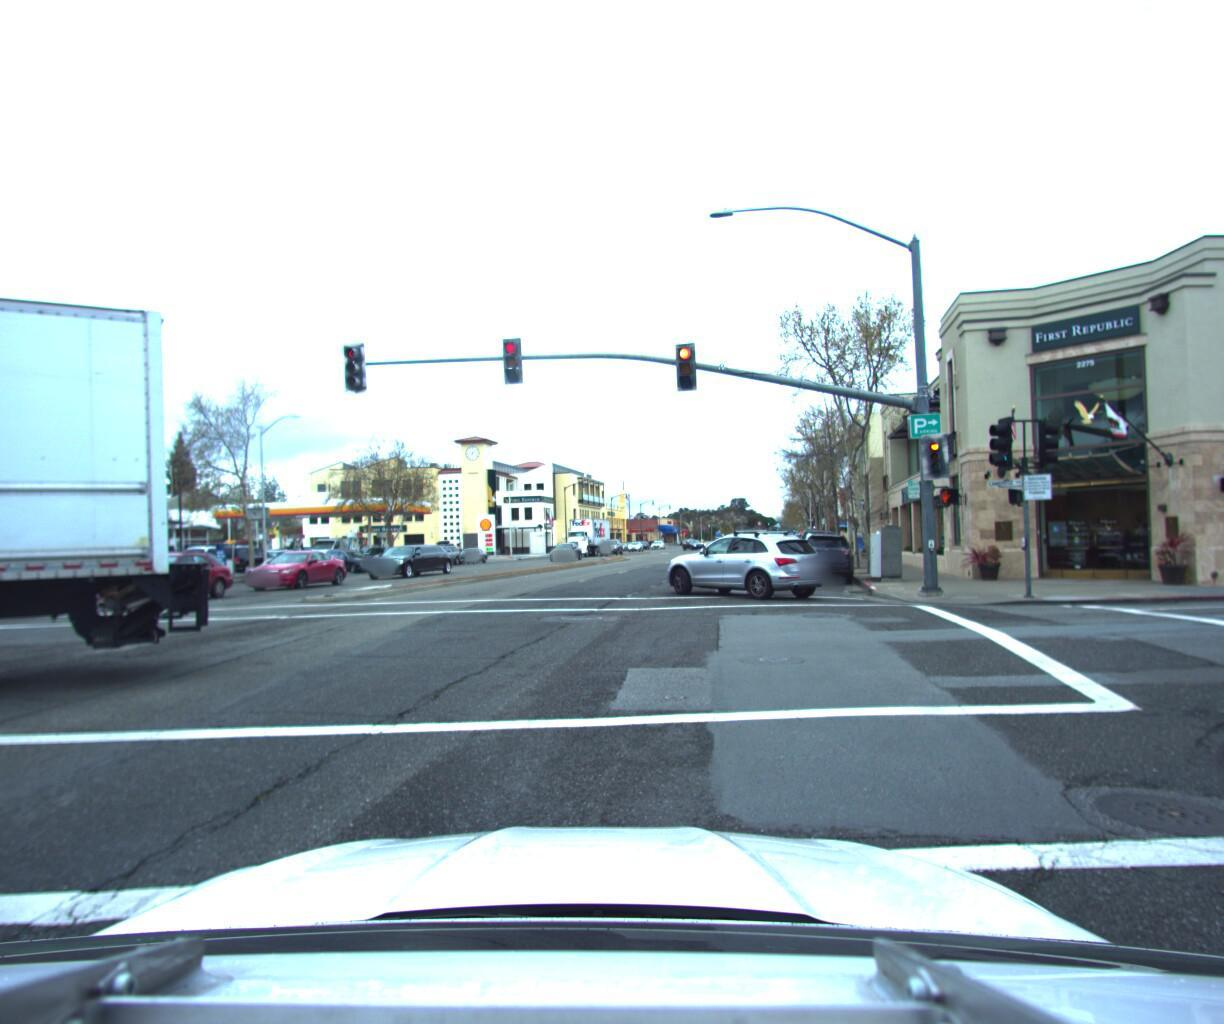car: (654, 533, 830, 607), (91, 554, 246, 611), (237, 554, 357, 598), (790, 534, 854, 594), (369, 551, 455, 586), (184, 549, 245, 581), (216, 539, 270, 565), (311, 543, 361, 570), (451, 554, 488, 573), (598, 542, 624, 561)
truck: (559, 521, 612, 565)
